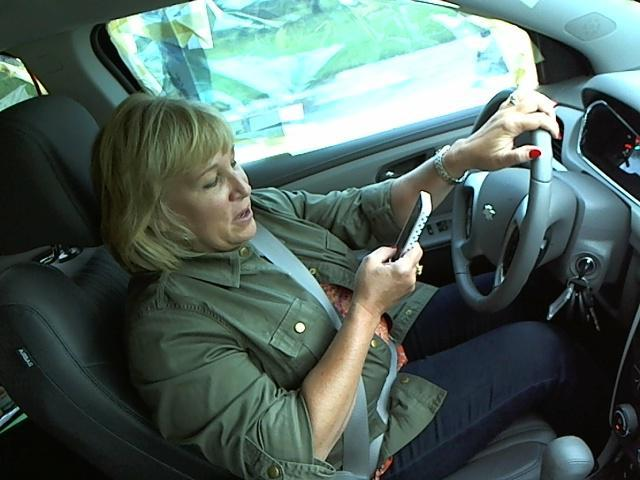PhoneUse: (382, 179, 442, 277)
